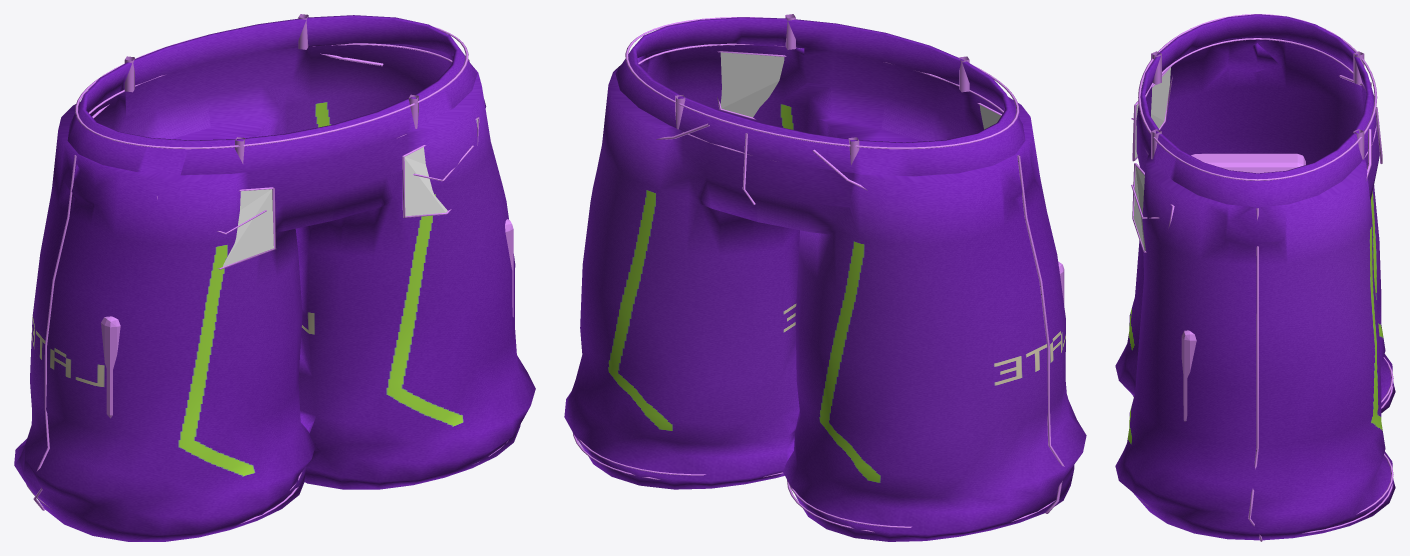
File: AH_BOTTOM_02.fbx
The picture shows the model from 3 angles, left to right: view 1: azimuth 30°, elevation 25°; view 2: azimuth 150°, elevation 25°; view 3: azimuth 270°, elevation 25°; orthographic projection. The views are drawn at different scales.
Parts seen in each view (by area): view 1: Corpo da jeans.005, Bolso traseiro -1.005, Bolso traseiro 1.005, Pesponto do cós.011, Bolso_tecnico, Costura lateral -1.005; view 2: Corpo da jeans.005, Bolso traseiro 1.005, Pesponto do cós.011, Costura lateral -1.005; view 3: Corpo da jeans.005, Bolso_tecnico, Pesponto do cós.011, Bolso traseiro -1.005, Costura lateral 1.005, Bolso_tecnico.001, Bolso traseiro 1.005, Pesponto do cós.010, Pesponto traseiro -1.005.
Part boxes in pixels (<box>): Corpo da jeans.005: <box>14,15,535,541</box>; Bolso traseiro -1.005: <box>223,189,273,266</box>; Bolso traseiro 1.005: <box>404,119,477,216</box>; Pesponto do cós.011: <box>75,26,468,149</box>; Bolso_tecnico: <box>101,316,120,418</box>; Costura lateral -1.005: <box>33,155,76,510</box>; Corpo da jeans.005: <box>564,17,1086,541</box>; Bolso traseiro 1.005: <box>720,52,784,117</box>; Pesponto do cós.011: <box>625,17,1019,149</box>; Costura lateral -1.005: <box>1017,155,1064,513</box>; Corpo da jeans.005: <box>1115,14,1395,540</box>; Bolso_tecnico: <box>1191,153,1305,173</box>; Pesponto do cós.011: <box>1138,14,1377,180</box>; Bolso traseiro -1.005: <box>1135,67,1170,158</box>; Costura lateral 1.005: <box>1248,208,1262,541</box>; Bolso_tecnico.001: <box>1181,330,1196,421</box>; Bolso traseiro 1.005: <box>1133,166,1145,250</box>; Pesponto do cós.010: <box>1145,38,1376,157</box>; Pesponto traseiro -1.005: <box>1132,66,1172,161</box>.
Bounding box in the file's own units: 111 × 83.9 × 60.95.
Materials: 3 (1 with a texture image).
